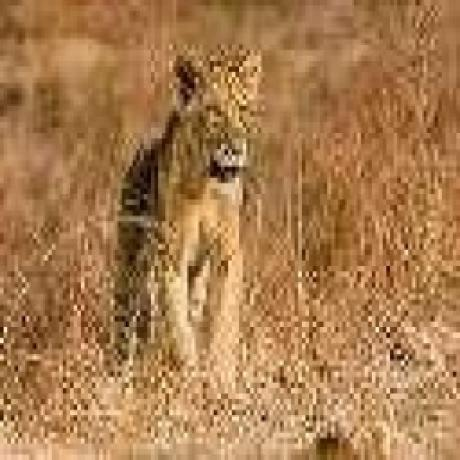Lion: (115, 43, 265, 406)
